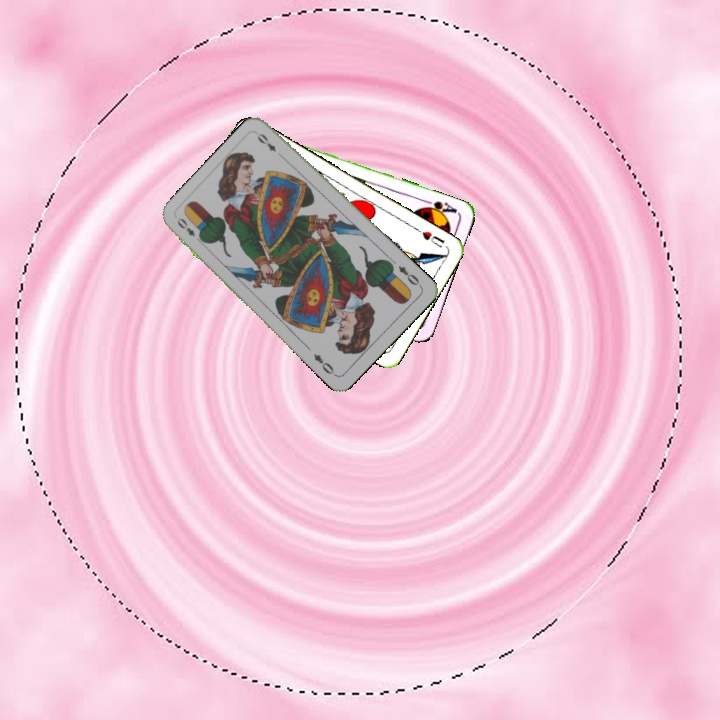EO: (172, 214, 206, 246), (394, 261, 424, 290)
HU: (412, 224, 447, 250)
SA: (419, 196, 460, 219)
